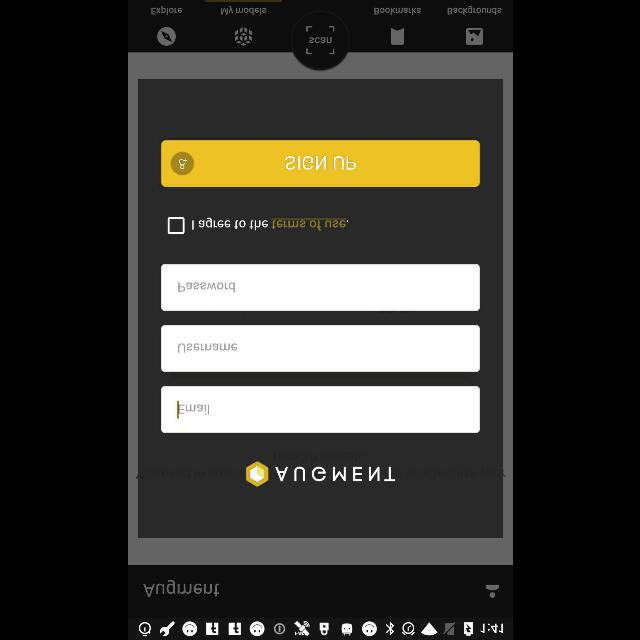checkbox: (167, 218, 183, 235)
icon: (157, 27, 176, 46), (391, 28, 404, 44), (486, 584, 498, 598)
image: (306, 26, 334, 54), (246, 462, 268, 486), (234, 27, 252, 46), (466, 28, 482, 44)
input: (161, 324, 479, 372), (161, 386, 479, 432), (161, 264, 479, 310)
panel: (138, 80, 502, 538)
text: (274, 466, 394, 482), (192, 218, 348, 230), (143, 580, 219, 596), (178, 282, 234, 292), (178, 343, 236, 352), (447, 6, 501, 14), (220, 7, 266, 16), (374, 8, 420, 15), (178, 404, 208, 414), (150, 6, 182, 14)
textbutton: (161, 140, 479, 186)
uppertaskbar: (128, 617, 512, 639)
